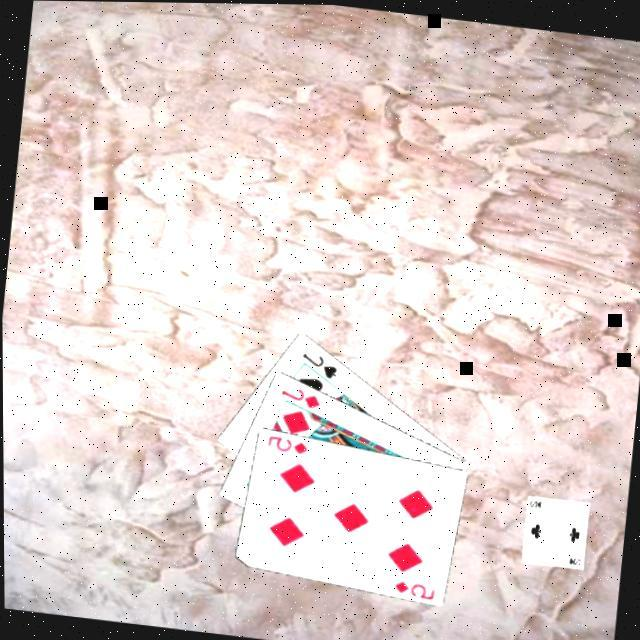5D: (262, 432, 310, 460), (390, 577, 438, 604)
JD: (277, 384, 324, 414)
JS: (296, 349, 342, 383)
